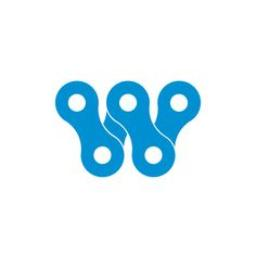w: (52, 67, 206, 185)
